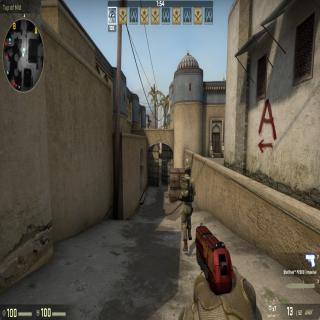CT-Body: (178, 163, 195, 251)
CT-Head: (184, 164, 192, 179)
